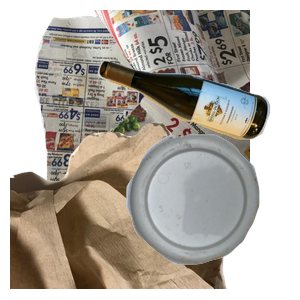glass: (95, 57, 300, 189)
paper: (32, 10, 272, 190)
plastic: (124, 132, 300, 300)
trash: (10, 120, 229, 300)
